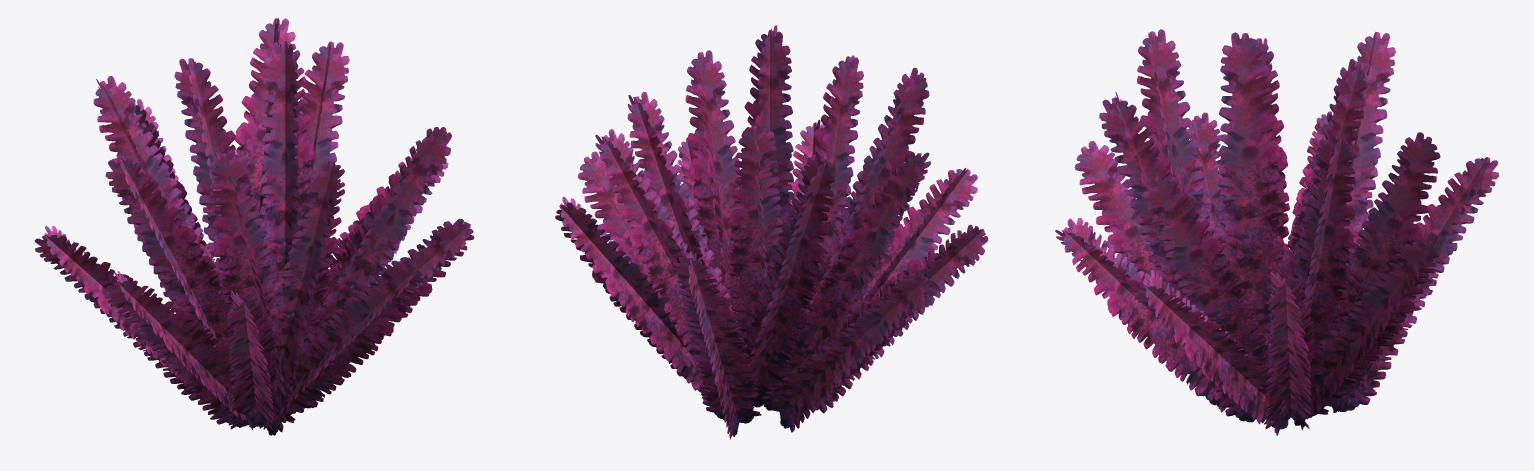
The model's file is acropora.fbx.
3 renders of one model, left to right at view 1: azimuth 30°, elevation 25°; view 2: azimuth 150°, elevation 25°; view 3: azimuth 270°, elevation 25°, orthographic. The views are drawn at different scales.
Parts seen in each view (by area): view 1: acropora; view 2: acropora; view 3: acropora.
Part boxes in pixels (x1=…): acropora: x1=34, y1=18, x2=474, y2=435; acropora: x1=555, y1=25, x2=988, y2=439; acropora: x1=1055, y1=29, x2=1498, y2=435.
Size of the model in its own units: 37.43 by 34.5 by 37.17.
1 material, 1 textured.
